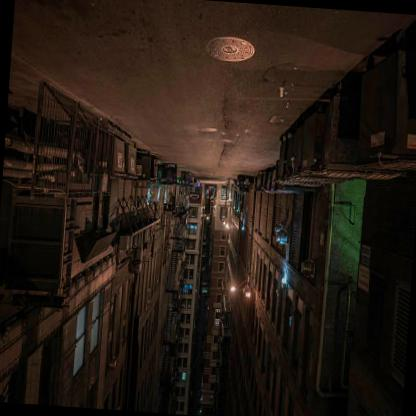manholes: (194, 12, 262, 94), (188, 112, 221, 152)
